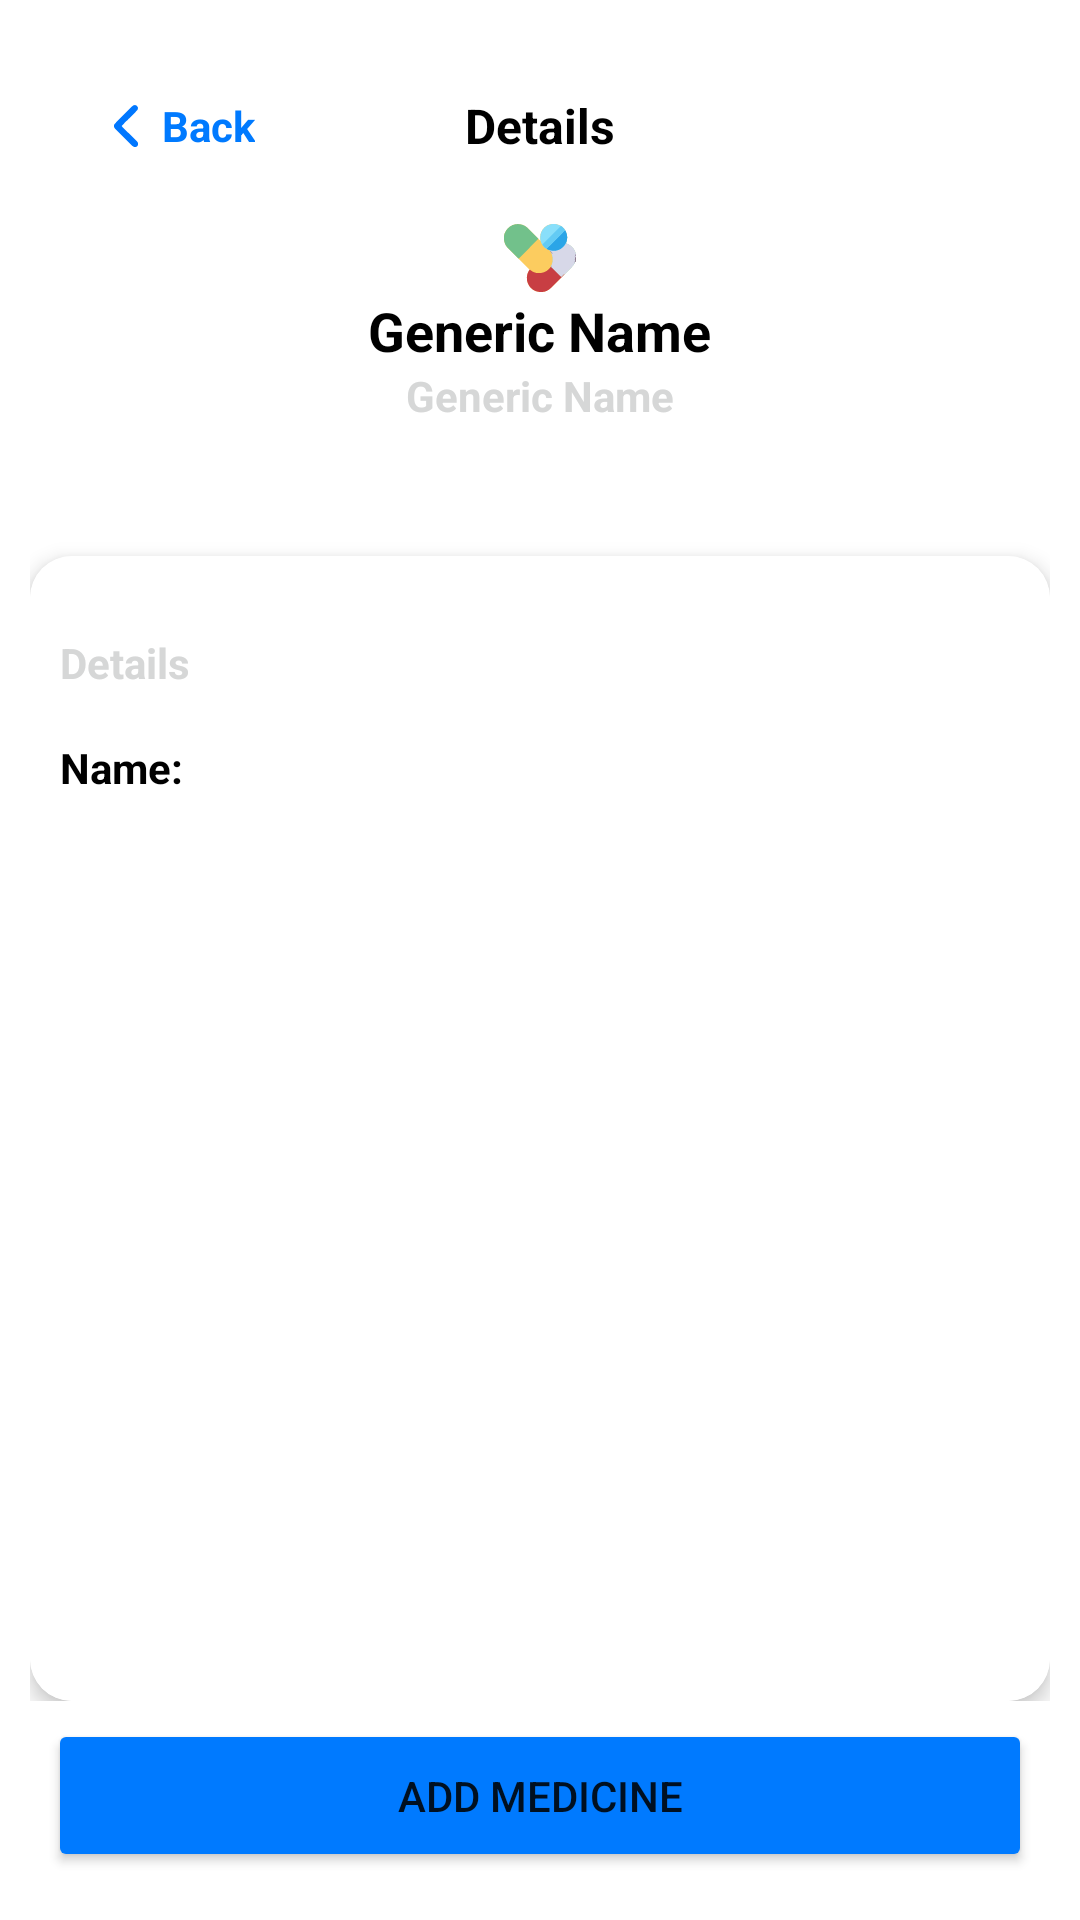

Icon bounding boxes for this 1080px x 1920px phone screenshot, format (x1, y1, x2, y2):
drugs: (504, 224, 576, 292)
